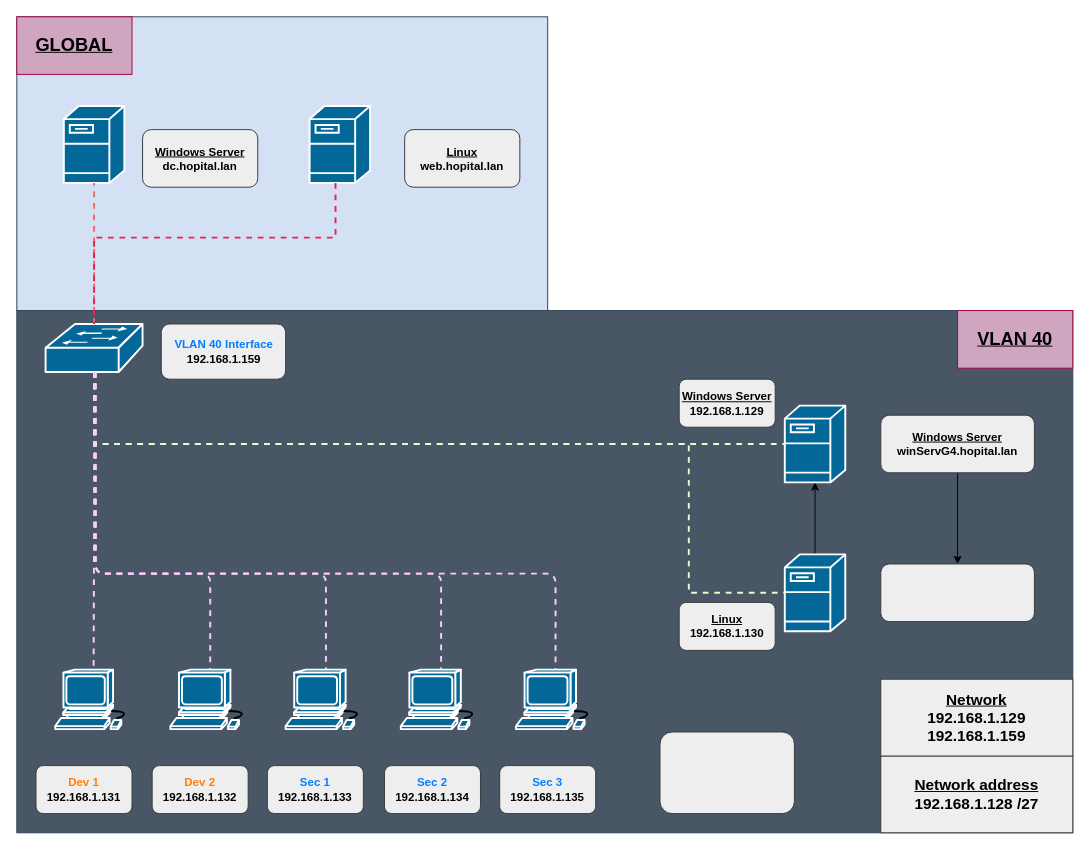
The diagram is 1090 pixels wide and 850 high, and some of its shapes have lost their labels. Here are the shapes that lost their labels. From the top down, the centre of each, then its label:
the point at 957,592: Linux Server reabilitation.hopital.lan
the point at 726,772: Exclusion Address 192.168.1.129 - 192.168.1.140
